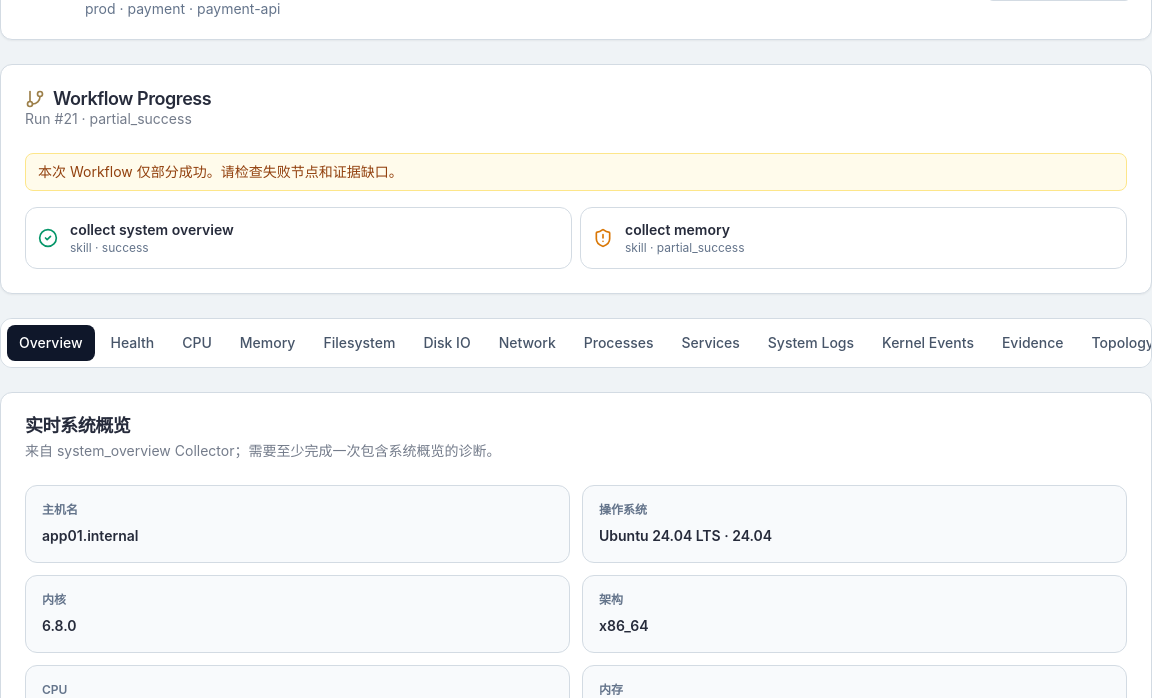
Test: LinuxAnalysisPage › separates fact rule and hypothesis while keeping partial health unknown
The width and height of the screenshot is (1152, 698).
(page scrolled)
Click the button "Health". click: [132, 342]
box: [98,324,166,360]
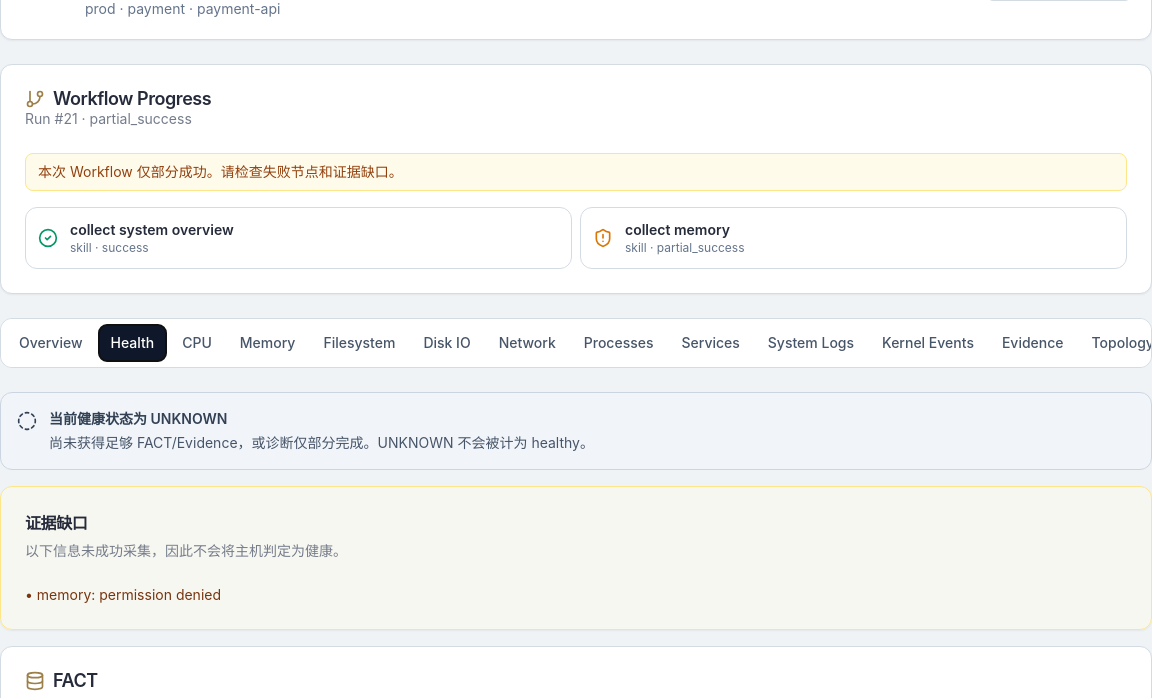
Check: the text "当前健康状态为 UNKNOWN" is shown, box [49,410,227,426]
Check: the heading "FACT" is shown, box [25,670,98,690]
Check: the heading "证据缺口" is shown, box [25,512,87,532]
